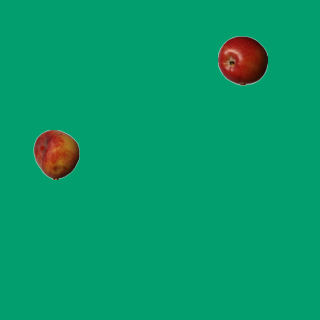Apple Braeburn: (217, 35, 267, 85)
Peach: (31, 129, 81, 179)
